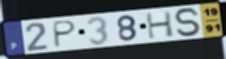2: (24, 21, 51, 53)
3: (86, 14, 111, 47)
8: (116, 14, 139, 42)
H: (144, 9, 176, 40)
P: (53, 19, 79, 49)
S: (172, 7, 204, 38)
